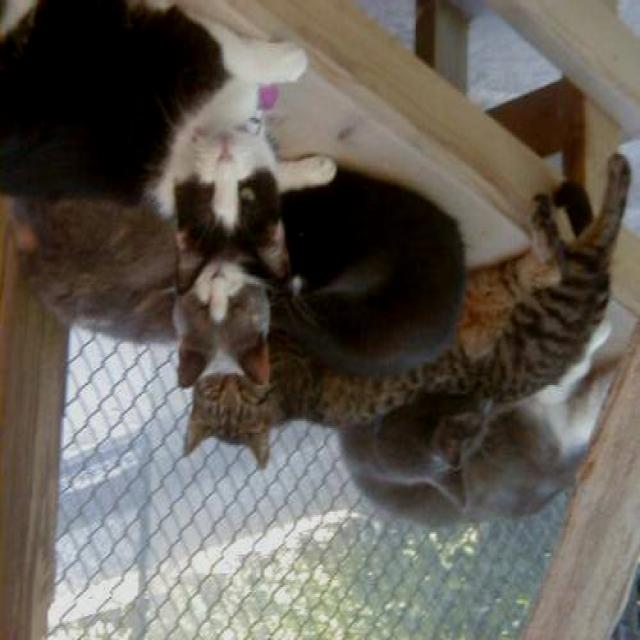Kucing: (306, 404, 625, 567), (151, 65, 328, 251), (131, 391, 292, 498), (133, 278, 294, 379)
